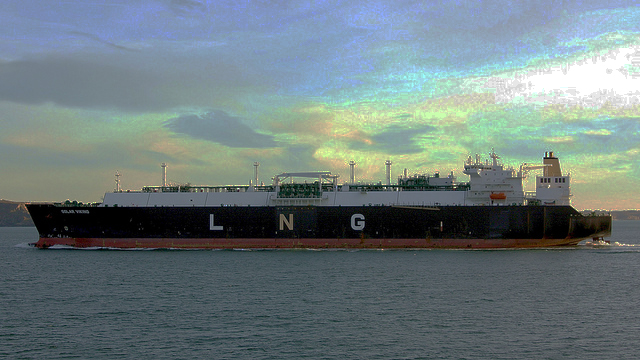LNG_ship: (27, 148, 614, 250)
